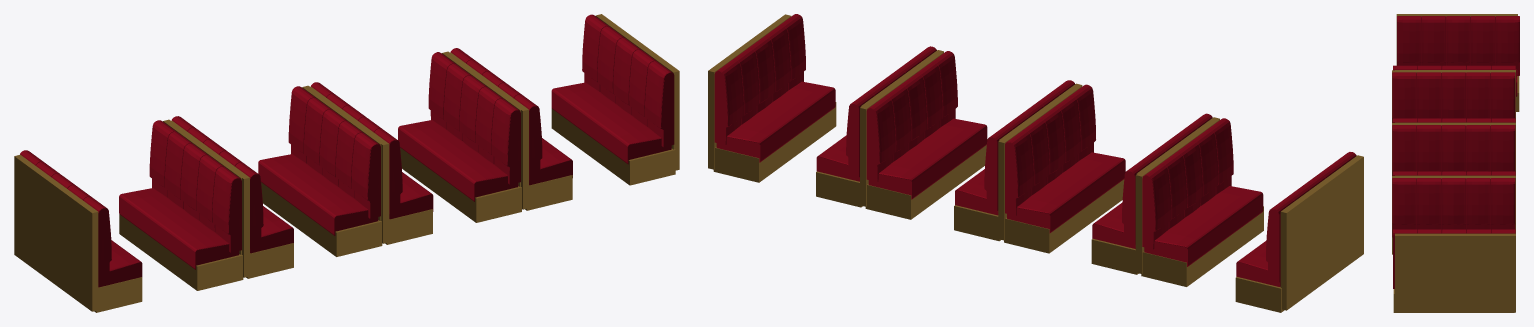
The model's file is gabinetes.obj.
The picture shows the model from 3 angles, left to right: view 1: azimuth 30°, elevation 25°; view 2: azimuth 150°, elevation 25°; view 3: azimuth 270°, elevation 25°; orthographic projection. The views are drawn at different scales.
Parts seen in each view (by area): view 1: polySurface9, pasted__polySurface17, polySurface24, pCube3, pasted__pasted__pasted__pasted__pCube3 pasted__pasted__pasted__g; view 2: polySurface9, pasted__polySurface17, polySurface24, pCube3, pasted__pasted__pasted__pasted__pCube3 pasted__pasted__pasted__g; view 3: pCube3, pasted__polySurface17, polySurface24, polySurface9, pasted__pasted__pasted__pasted__pCube3 pasted__pasted__pasted__g.
Part boxes in pixels (x1,y1,x2,y2): polySurface9: (119, 116, 293, 290); pasted__polySurface17: (398, 48, 572, 222); polySurface24: (258, 82, 433, 256); pCube3: (551, 14, 679, 185); pasted__pasted__pasted__pasted__pCube3 pasted__pasted__pasted__g: (14, 150, 142, 312); polySurface9: (1091, 113, 1263, 286); pasted__polySurface17: (816, 46, 987, 219); polySurface24: (954, 80, 1125, 253); pCube3: (708, 14, 836, 182); pasted__pasted__pasted__pasted__pCube3 pasted__pasted__pasted__g: (1235, 152, 1363, 312); pCube3: (1393, 229, 1515, 312); pasted__polySurface17: (1392, 171, 1515, 254); polySurface24: (1392, 118, 1515, 175); polySurface9: (1392, 65, 1515, 122); pasted__pasted__pasted__pasted__pCube3 pasted__pasted__pasted__g: (1396, 14, 1519, 111).
Size of the model in its own units: 7.97 by 1.35 by 1.94.
Materials: 32 (32 with a texture image).
